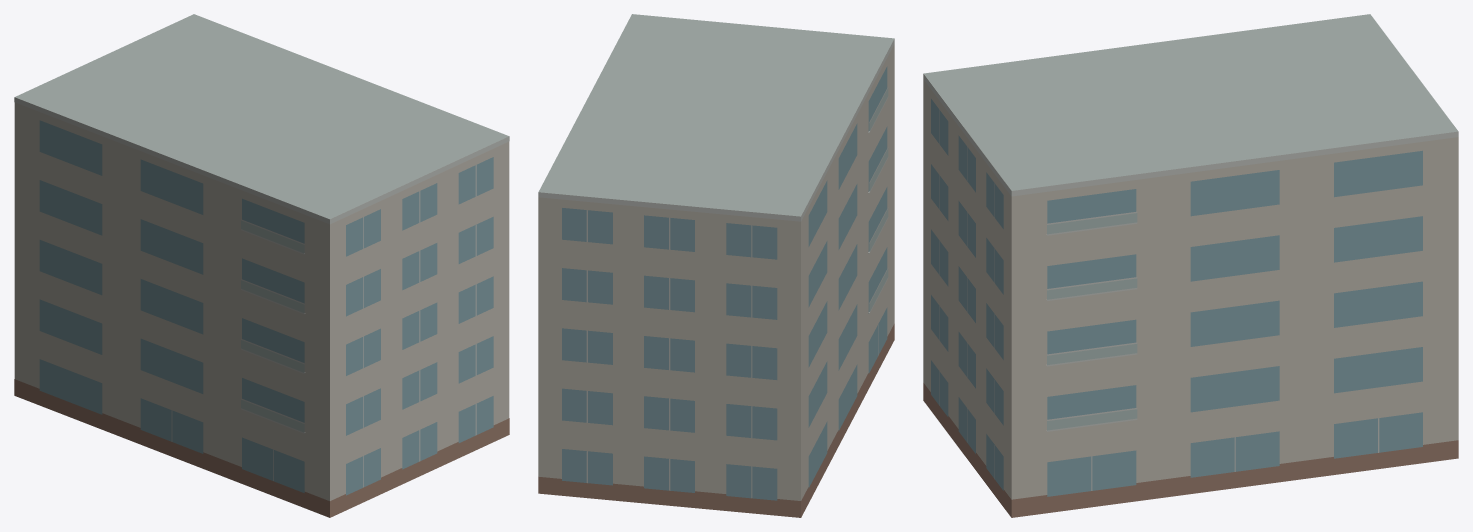
Rendered from survey-upis-32715199.glb.
The picture shows the model from 3 angles, left to right: view 1: azimuth 30°, elevation 25°; view 2: azimuth 150°, elevation 25°; view 3: azimuth 270°, elevation 25°; orthographic projection. The views are drawn at different scales.
Parts seen in each view (by area): view 1: survey-upis-32715199.tmp; view 2: survey-upis-32715199.tmp; view 3: survey-upis-32715199.tmp.
Boxes of the visible parts, left/top/right/bottom form: survey-upis-32715199.tmp: left=14, top=14, right=509, bottom=517; survey-upis-32715199.tmp: left=538, top=14, right=894, bottom=517; survey-upis-32715199.tmp: left=923, top=14, right=1458, bottom=517.
Size of the model in its own units: 16.73 by 14.4 by 21.38.
